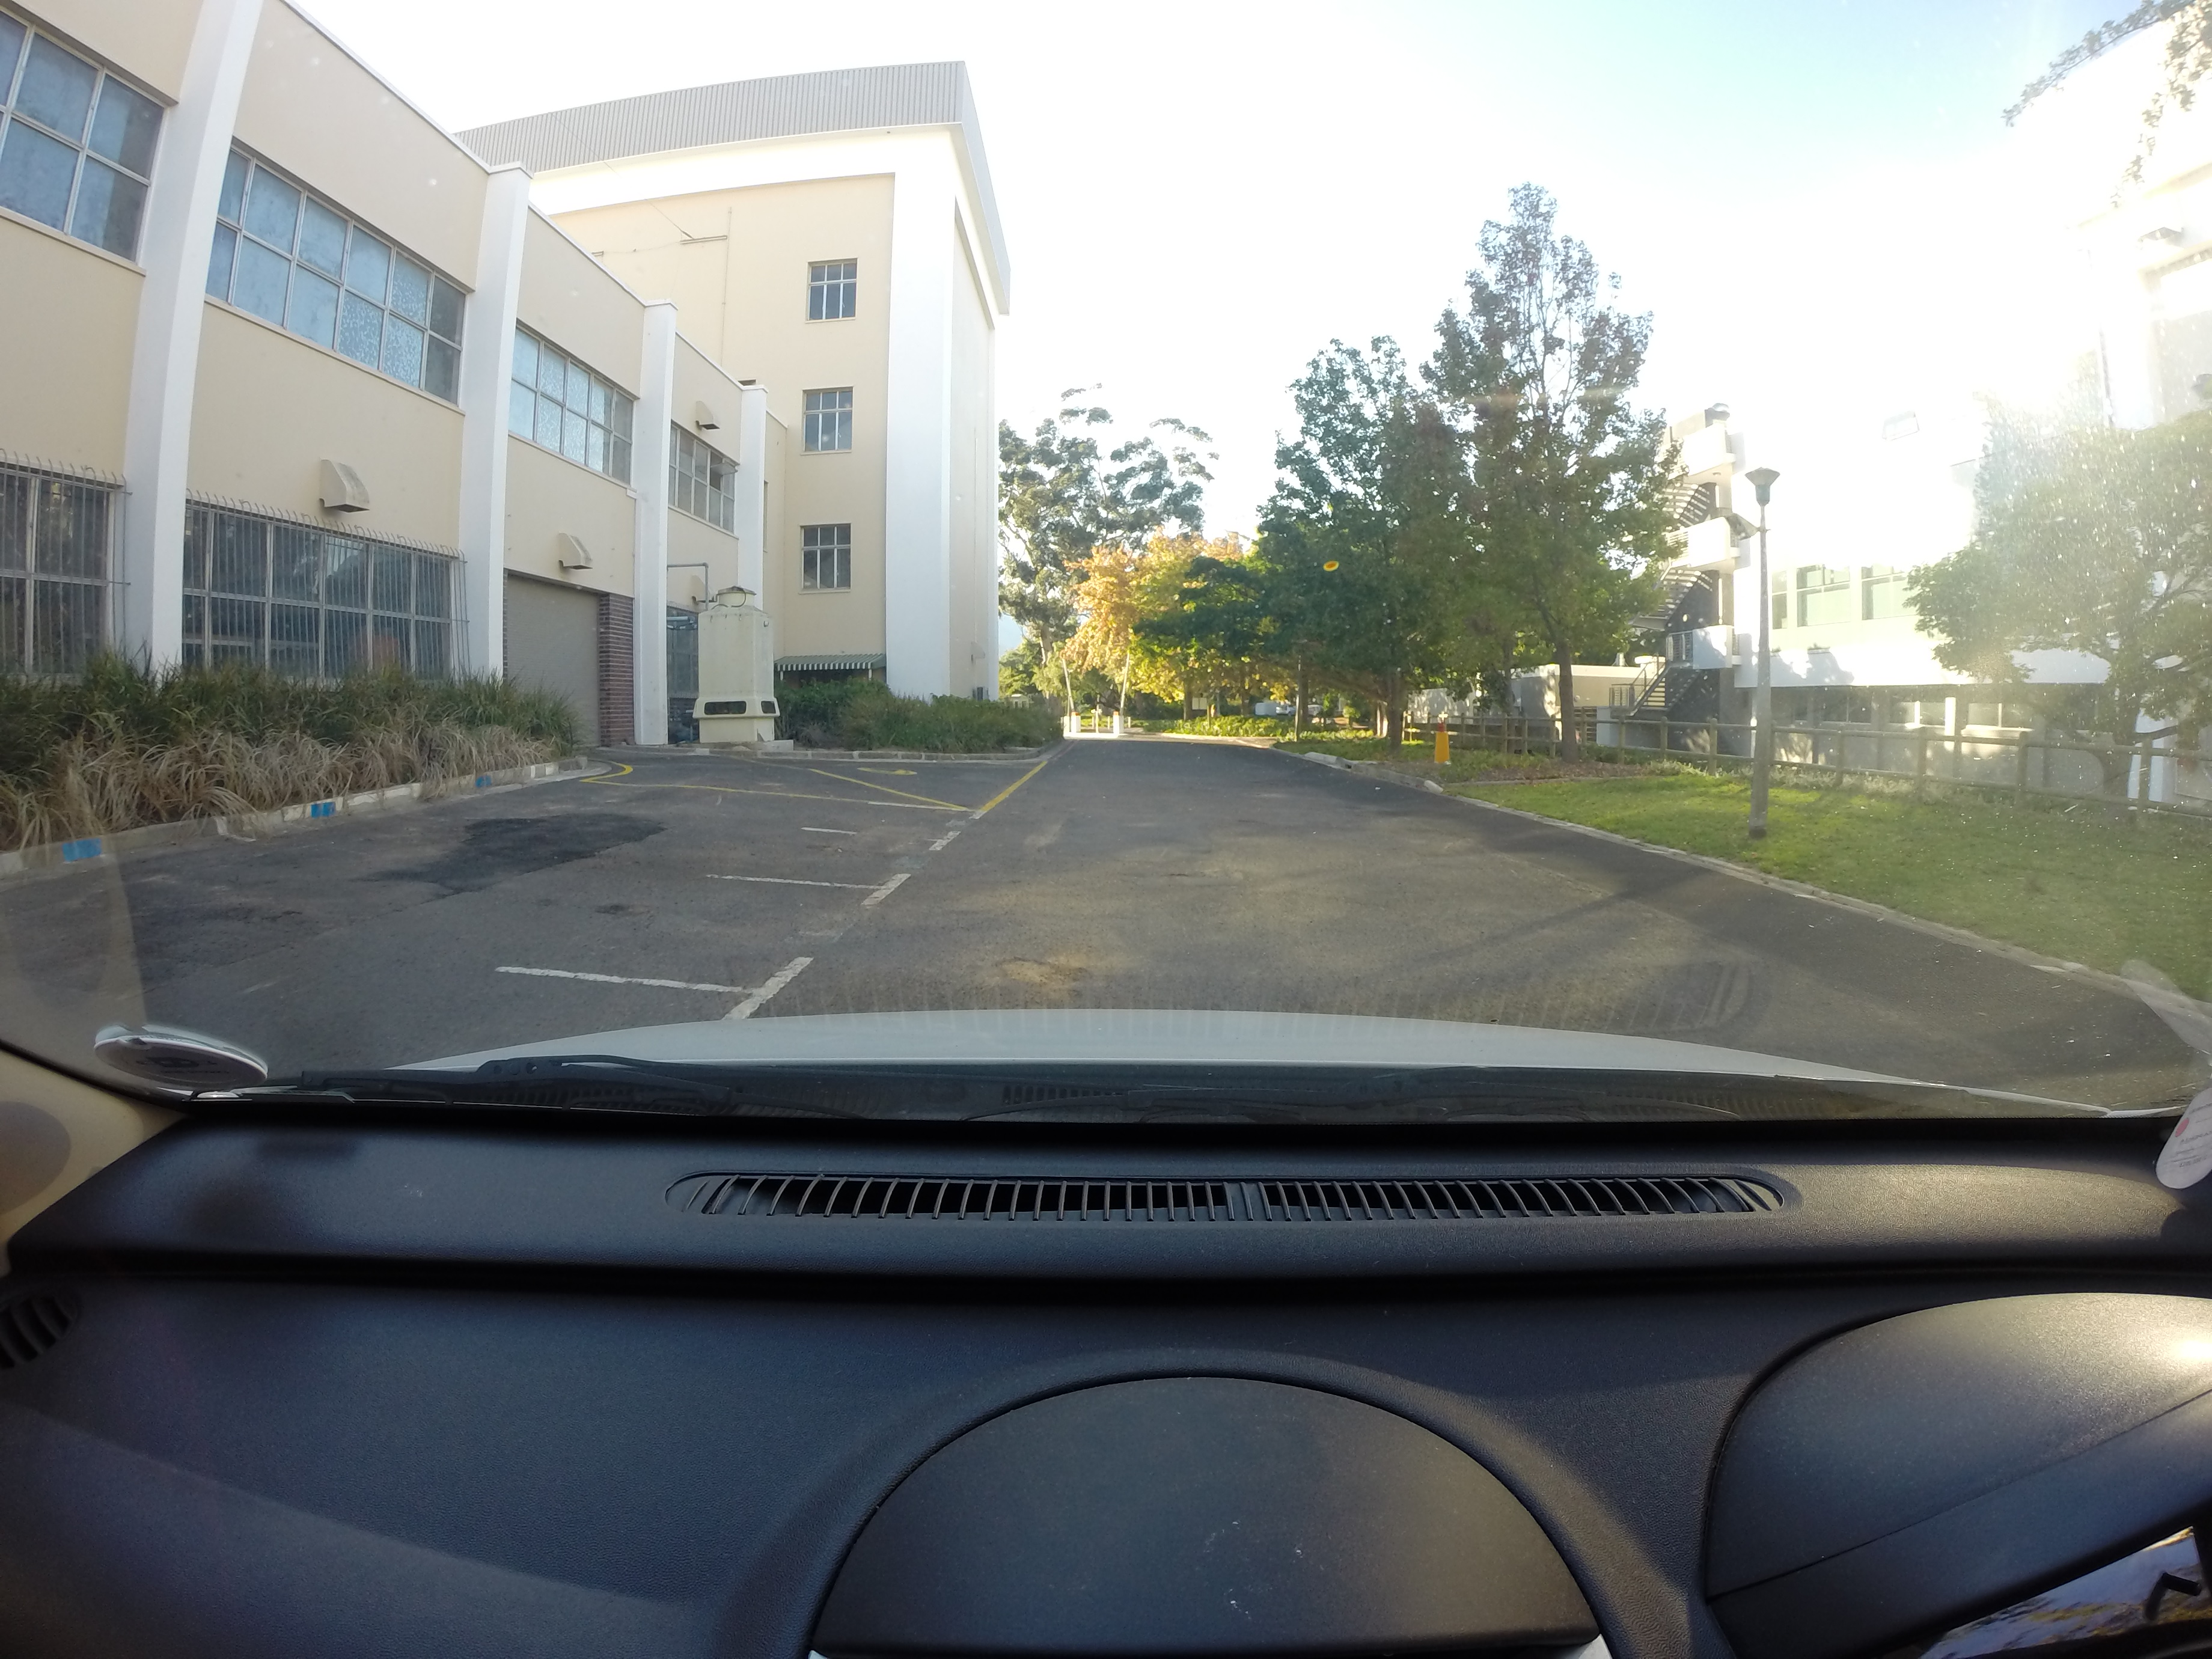pothole: (988, 946, 1101, 992)
